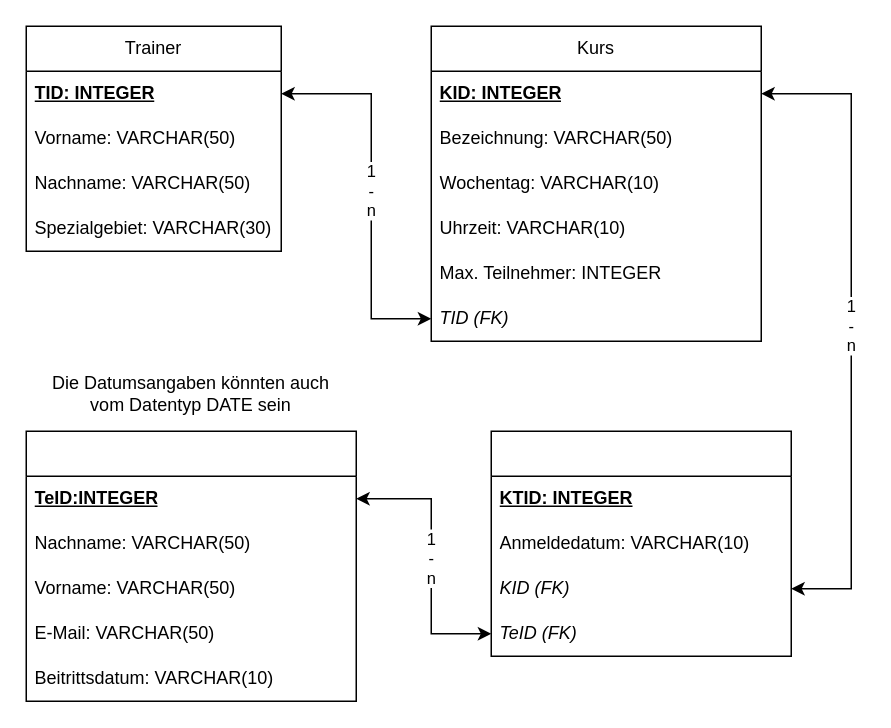
The diagram is 891 pixels wide and 728 high, and some of its shapes have lost their labels. The shapes that lost their labels are listed below. From the top down, each one's box as (x1, y1, x2, y2) in pixels, then its label:
(490, 430, 791, 656): Kurs - Teilnehmer
(25, 430, 356, 701): Teilnehmer
